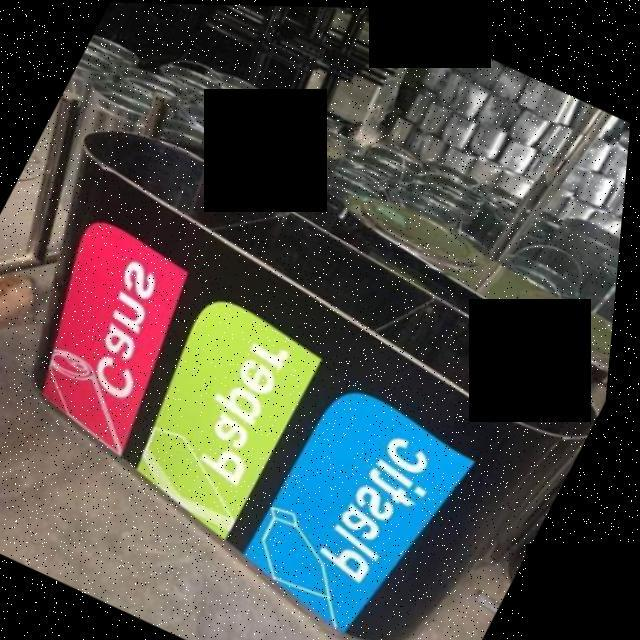bin: (0, 84, 634, 640)
